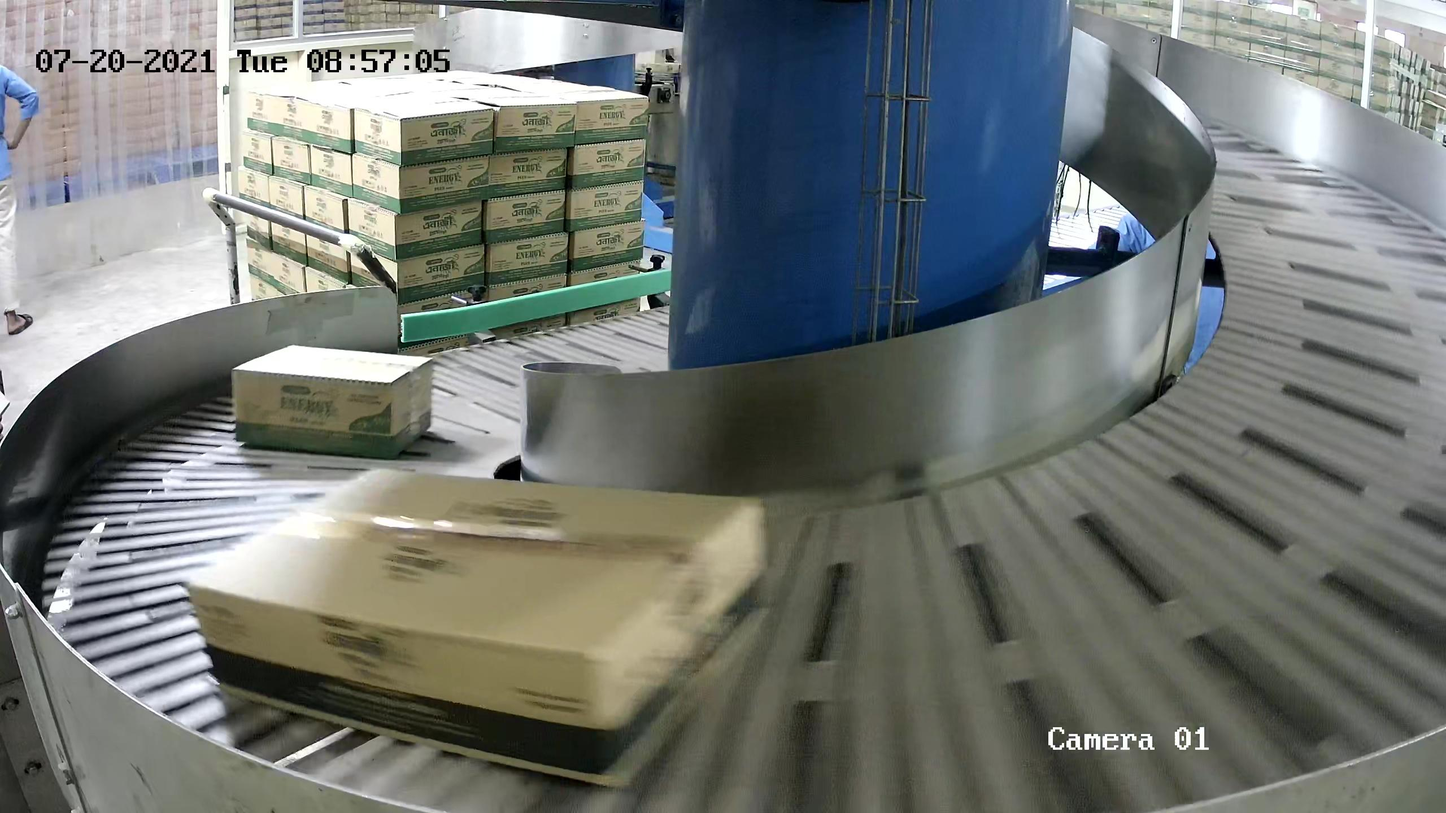Box: (183, 465, 775, 788), (230, 343, 434, 460)
